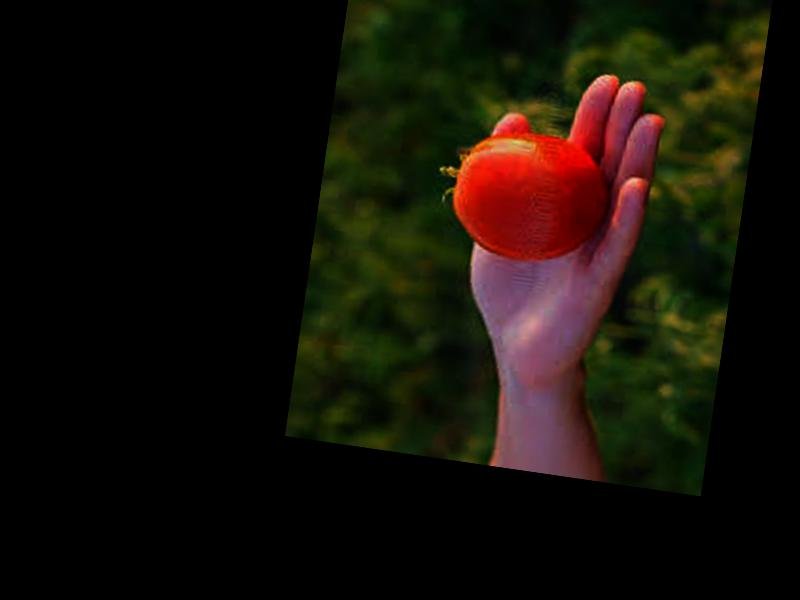Tomato: (447, 125, 619, 270)
